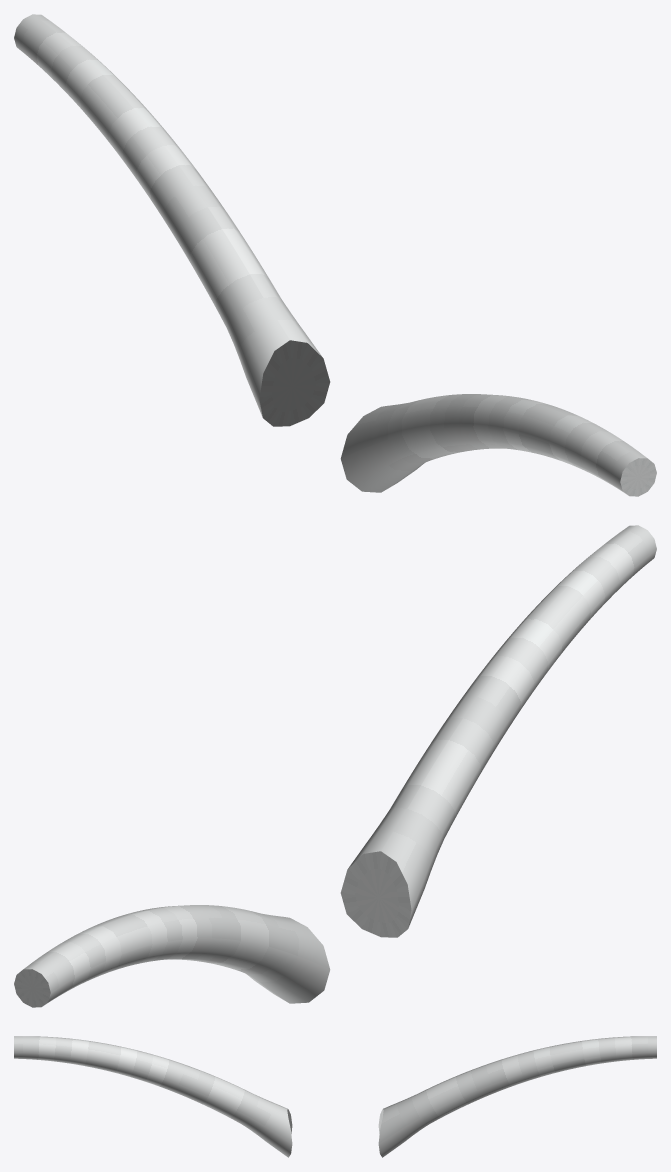
The model's file is luminairearm_caltrans6ftdouble_inv.obj.
3 renders of one model, top to bottom at view 1: azimuth 30°, elevation 25°; view 2: azimuth 150°, elevation 25°; view 3: azimuth 270°, elevation 25°, orthographic. The views are drawn at different scales.
Visible parts, largest first — view 1: luminairearm_caltrans6ftdouble_inv; view 2: luminairearm_caltrans6ftdouble_inv; view 3: luminairearm_caltrans6ftdouble_inv.
Part boxes in pixels (x1,y1,x2,y2): luminairearm_caltrans6ftdouble_inv: (14, 14, 656, 496); luminairearm_caltrans6ftdouble_inv: (14, 525, 656, 1007); luminairearm_caltrans6ftdouble_inv: (14, 1036, 656, 1157).
Size of the model in its own units: 0.0675 by 0.2033 by 1.
